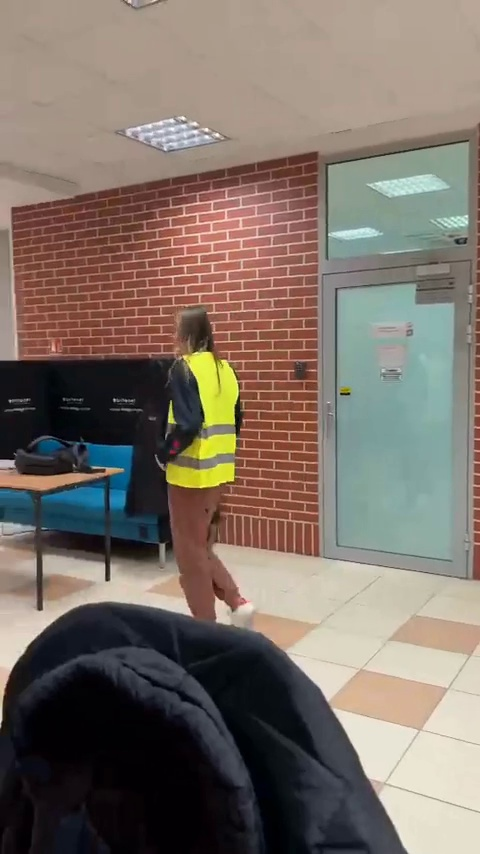vest: (153, 302, 260, 624)
